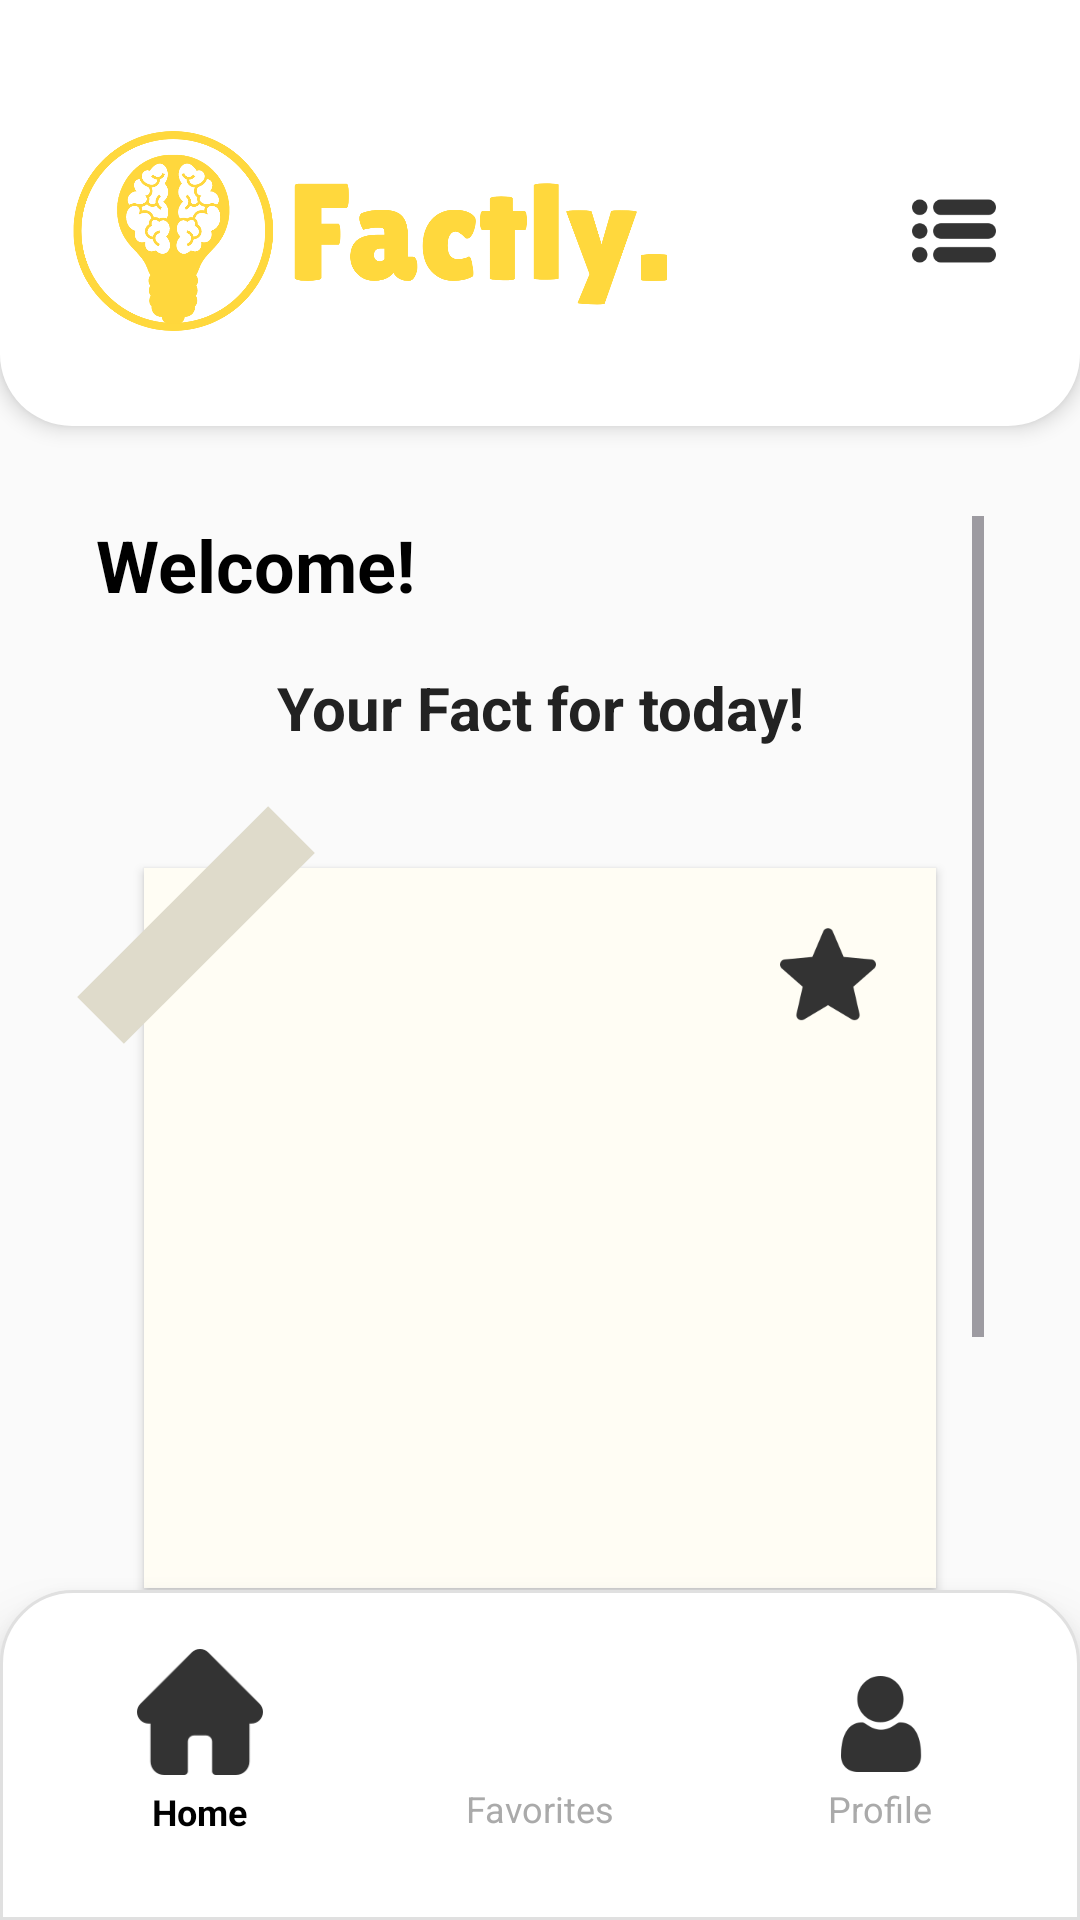

Named icons in this screenshot (1080 × 1920) and their bounding boxes, (x1, y1, x2, y2):
menu: (912, 199, 996, 263)
person: (841, 1676, 922, 1772)
star: (780, 928, 876, 1021)
